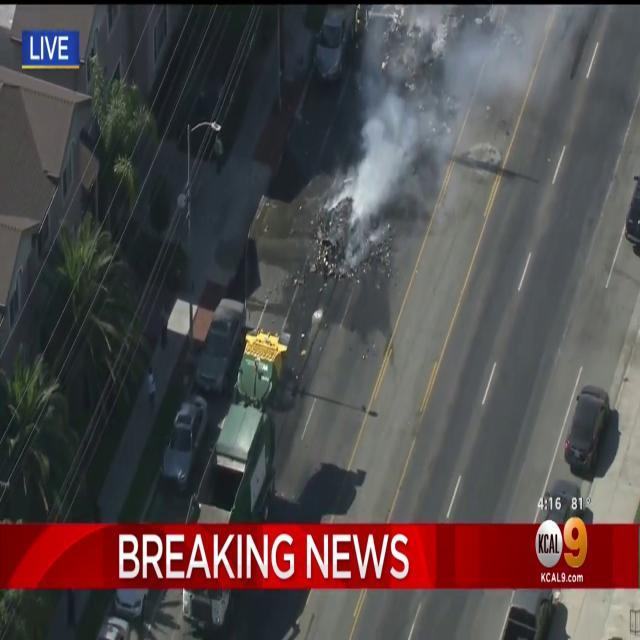Smoke: (339, 8, 484, 256)
